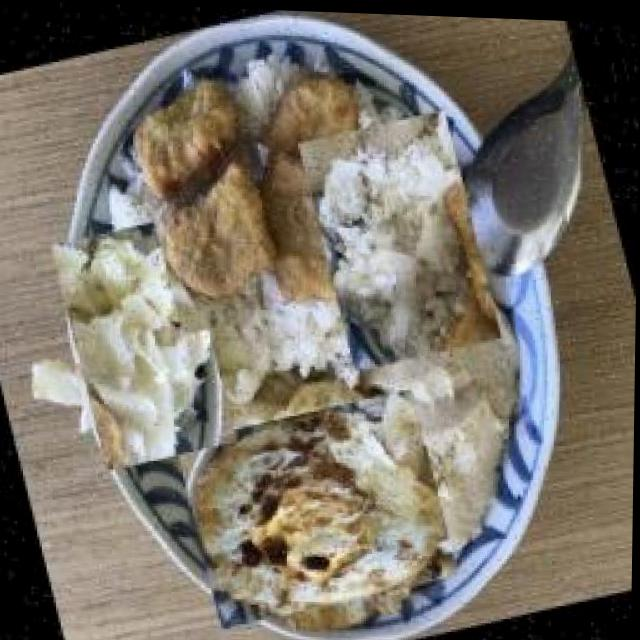chicken_nuggets: (124, 47, 402, 340)
chinese_cabbage: (48, 210, 241, 475)
fried_eggs: (183, 371, 454, 640)
rice: (296, 101, 507, 375)
